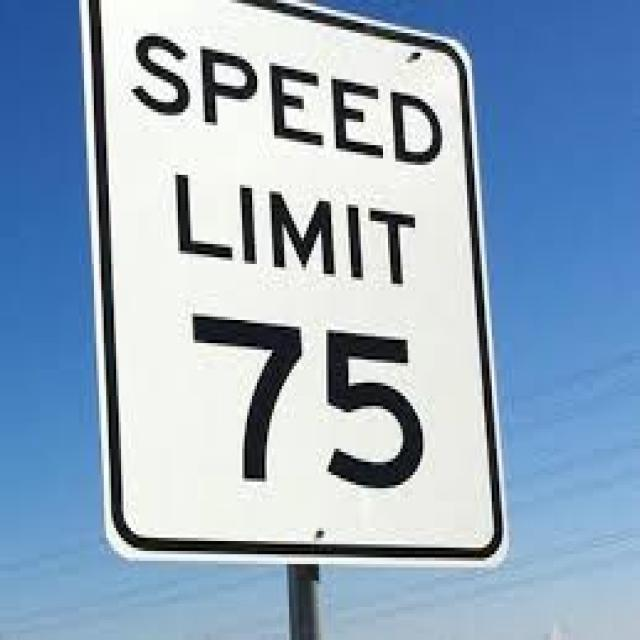speedLimit75: (105, 7, 478, 551)
